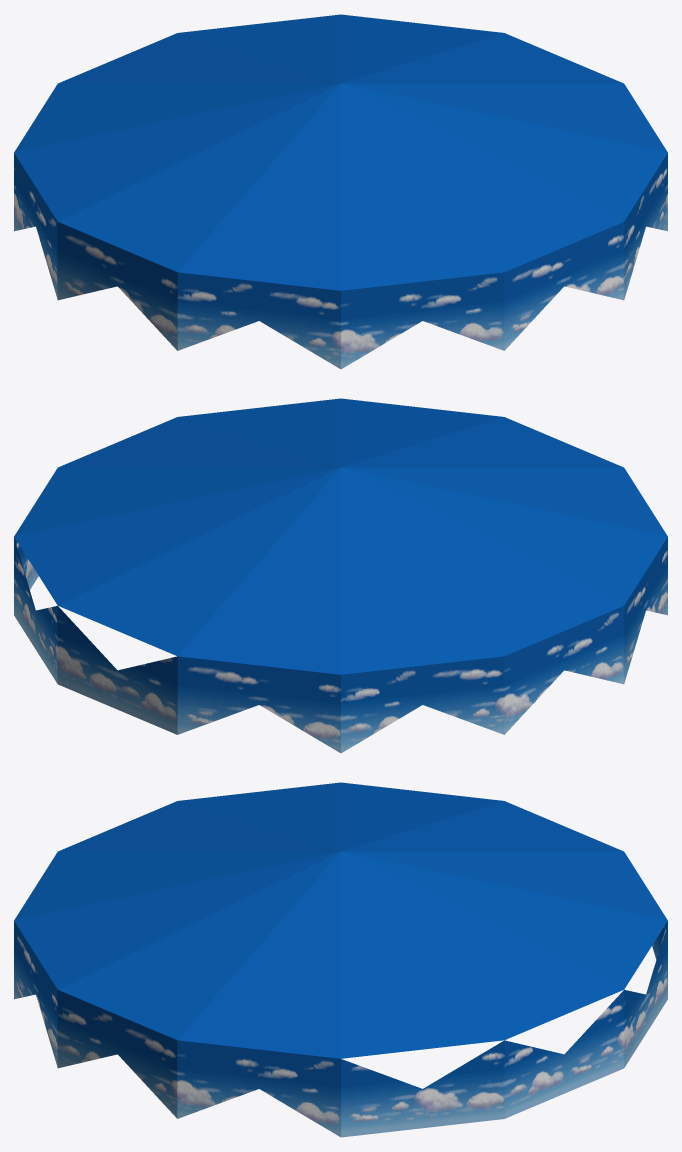
The model's file is beach_course-beach_course_V.glb.
3 views of the same model, one above another, from view 1: azimuth 30°, elevation 25°; view 2: azimuth 150°, elevation 25°; view 3: azimuth 270°, elevation 25° (orthographic).
Parts seen in each view (by area): view 1: beach_course_V; view 2: beach_course_V; view 3: beach_course_V.
Boxes of the visible parts, bbox=[...] form: beach_course_V: bbox=[14, 14, 667, 369]; beach_course_V: bbox=[14, 398, 667, 753]; beach_course_V: bbox=[14, 782, 667, 1137].
Size of the model in its own units: 779 by 194 by 779.
1 material, 1 textured.
